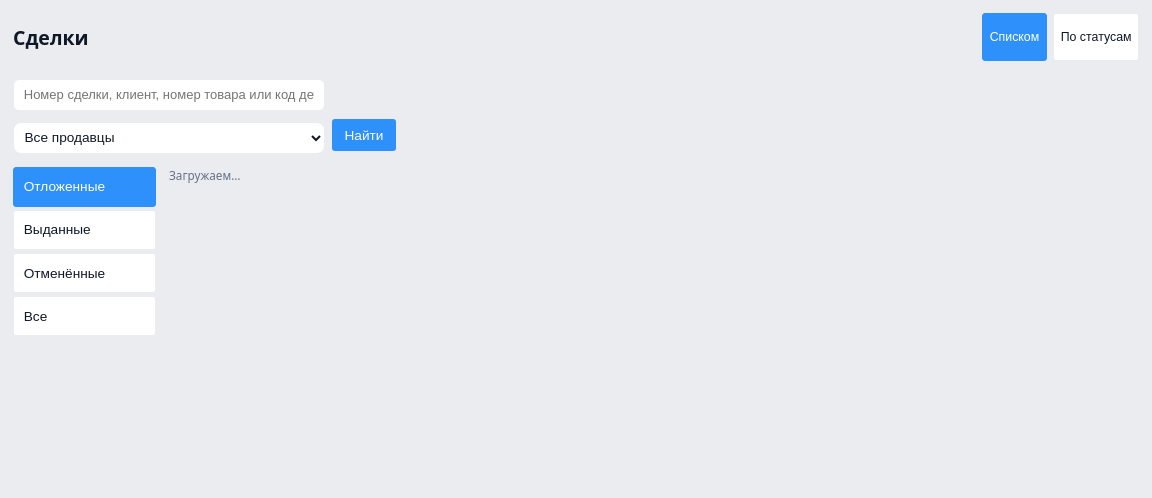
Test case: доска сделок по состояниям › обрезанная колонка говорит, сколько показано из скольких
Click the button "По статусам". click: (1096,37)
box: top-left (1053, 13), bottom-right (1139, 61)
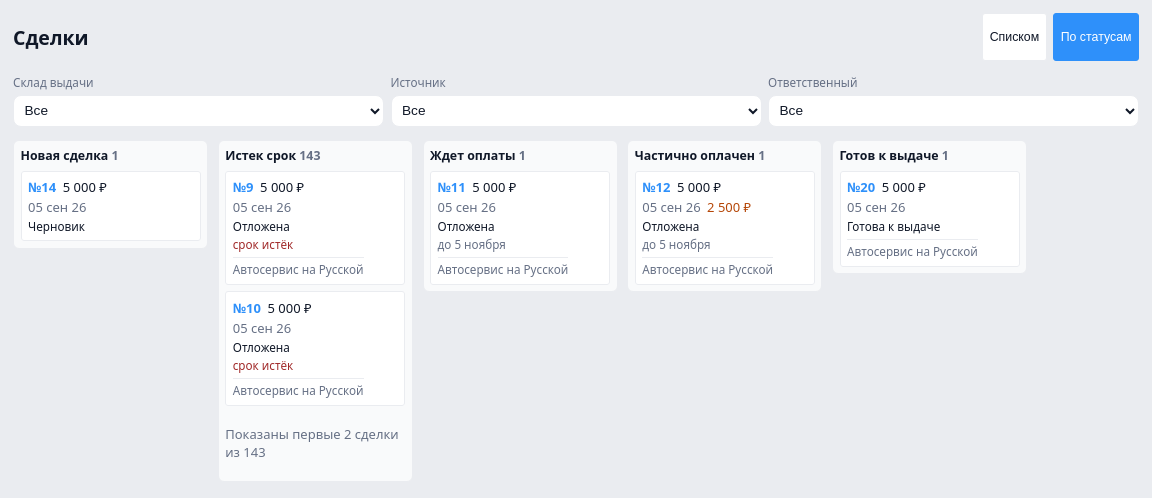
Expected: the heading "Истек срок 143" is shown, top-left (225, 147), bottom-right (320, 164)
Expected: the text "Показаны первые 2 сделки из 143" is shown, top-left (225, 425), bottom-right (405, 461)
